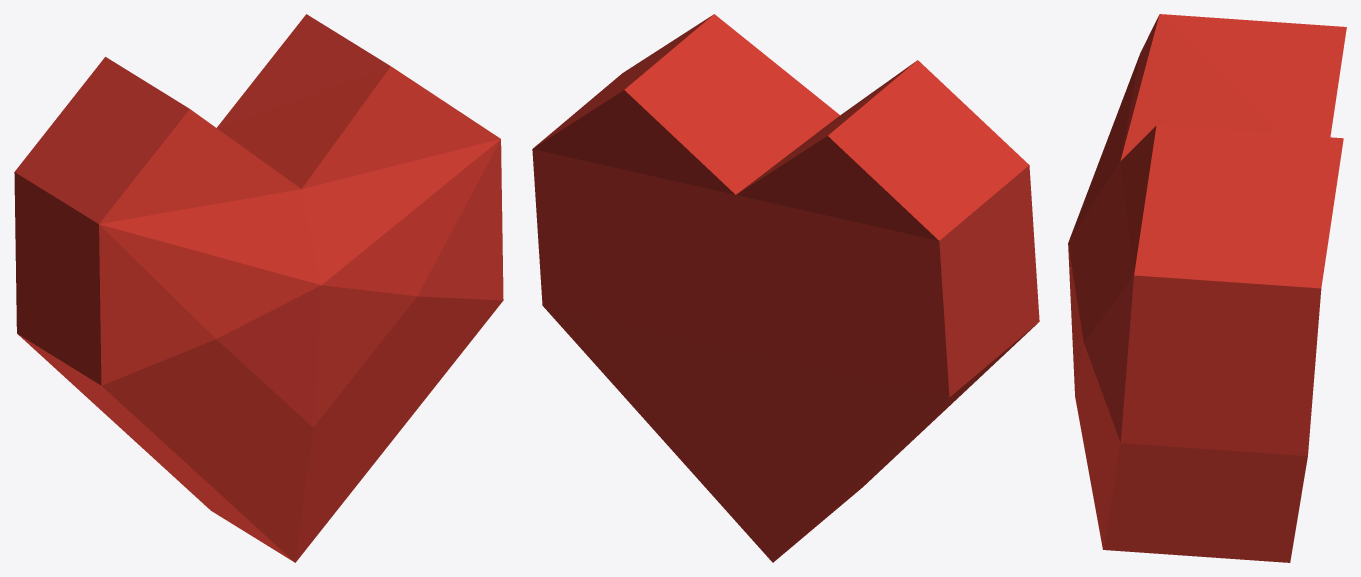
Rendered from coeur.gltf.
3 views of the same model, side by side, from view 1: azimuth 30°, elevation 25°; view 2: azimuth 150°, elevation 25°; view 3: azimuth 270°, elevation 25° (orthographic). The views are drawn at different scales.
Parts seen in each view (by area): view 1: node_MeshObject521534080-PolyPaper8; view 2: node_MeshObject521534080-PolyPaper8; view 3: node_MeshObject521534080-PolyPaper8.
Part boxes in pixels (left/top/right/bottom): node_MeshObject521534080-PolyPaper8: left=14, top=14, right=503, bottom=562; node_MeshObject521534080-PolyPaper8: left=532, top=14, right=1039, bottom=562; node_MeshObject521534080-PolyPaper8: left=1068, top=14, right=1346, bottom=562.
Size of the model in its own units: 0.2433 by 0.2676 by 0.1337.
